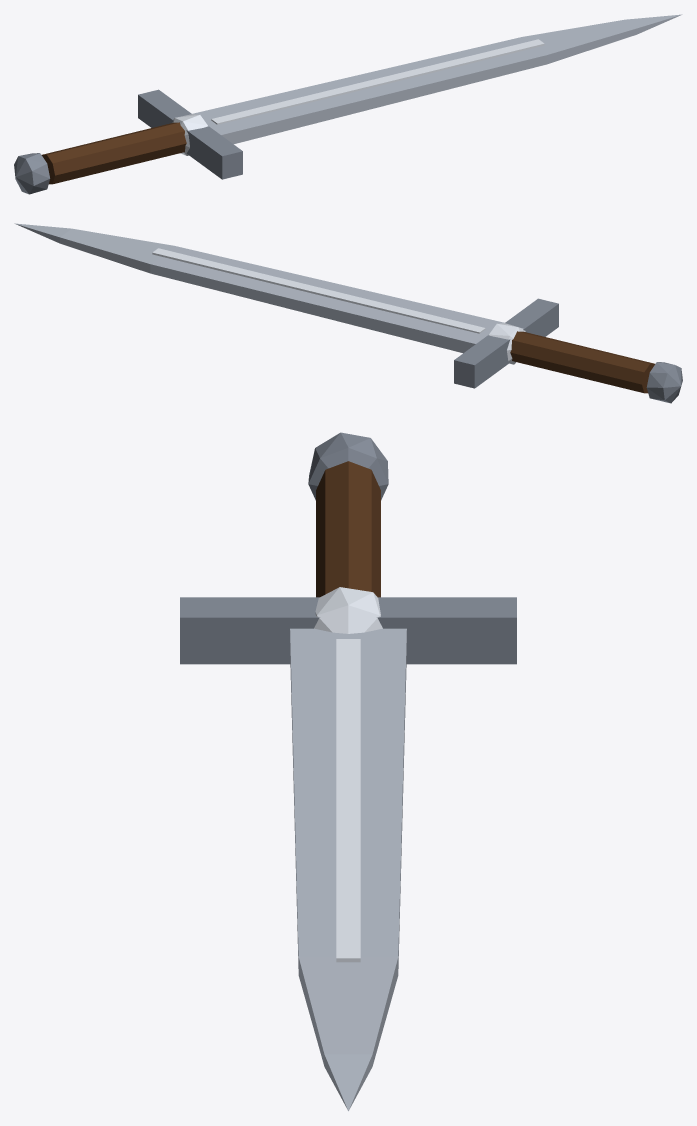
Rendered from drop_steel_sword.glb.
The picture shows the model from 3 angles, top to bottom: view 1: azimuth 30°, elevation 25°; view 2: azimuth 150°, elevation 25°; view 3: azimuth 270°, elevation 25°; orthographic projection. The views are drawn at different scales.
Parts seen in each view (by area): view 1: drop_steel_sword; view 2: drop_steel_sword; view 3: drop_steel_sword.
Boxes of the visible parts, x1,y1,x2,y2 form: drop_steel_sword: (14, 14, 682, 194); drop_steel_sword: (14, 223, 682, 403); drop_steel_sword: (180, 432, 516, 1111).
Size of the model in its own units: 0.7176 by 0.0374 by 0.1568.
